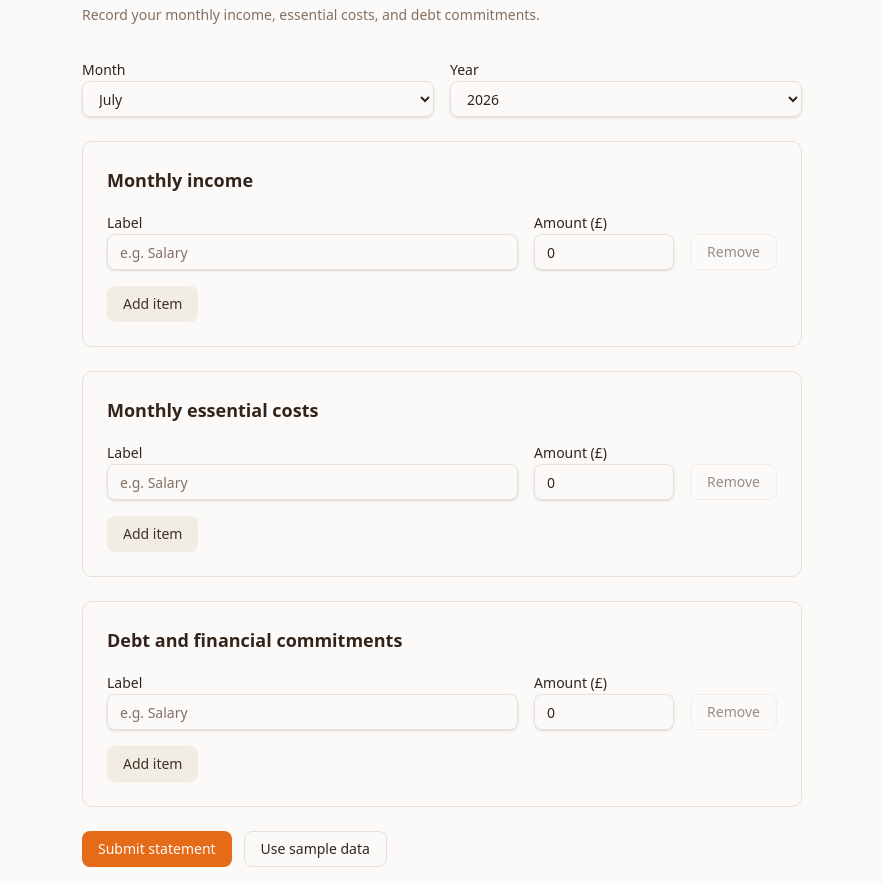
Scenario: StatementNewPage › submits sample data when Use sample data is clicked
The image size is (883, 884).
(page scrolled)
Step 1. Click the button "Use sample data" → (315, 849), box [244,831,387,867]
(page scrolled)
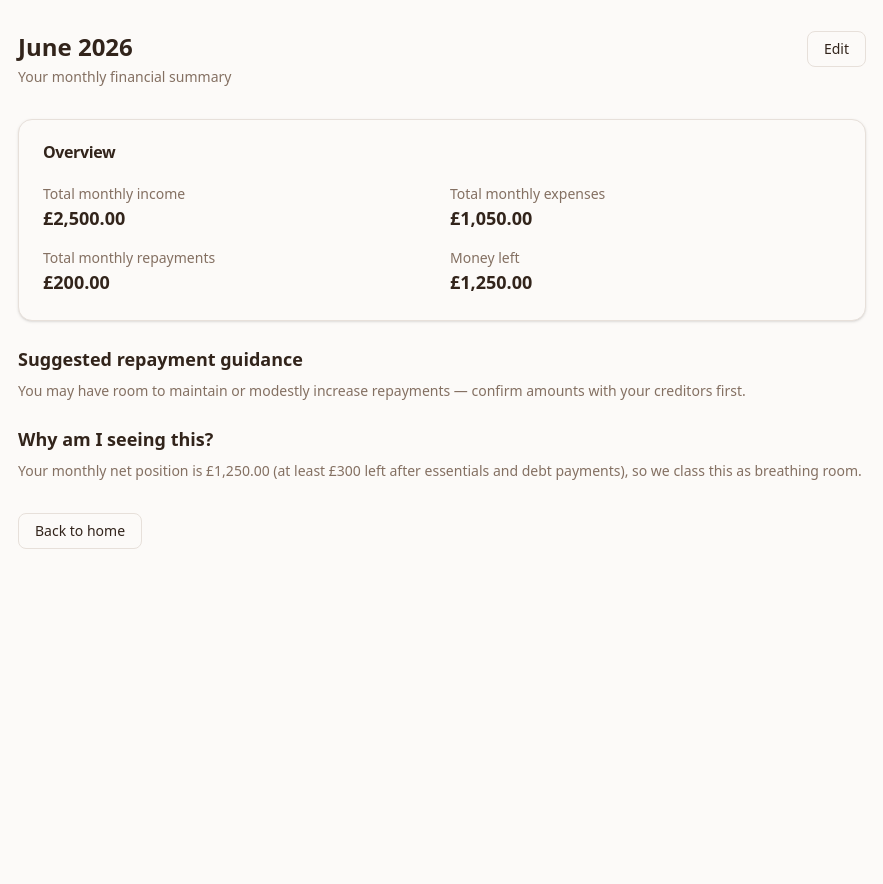
Expected: the heading "June 2026" is shown, [18,30,133,63]
